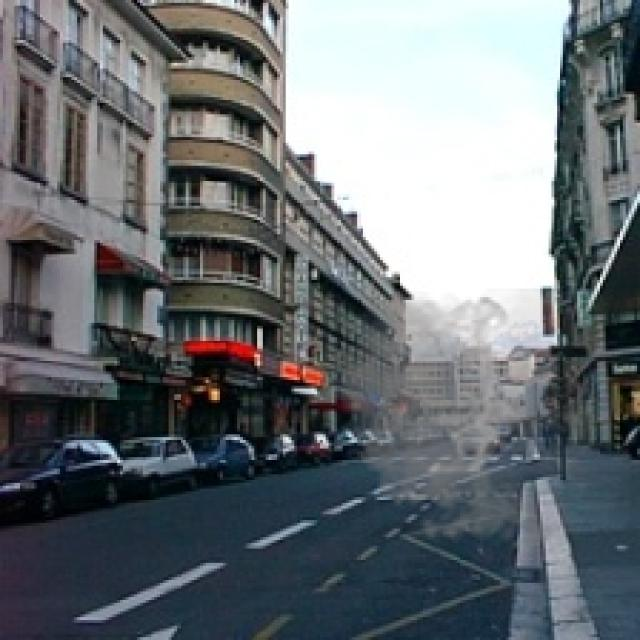smoke: (317, 289, 589, 557)
